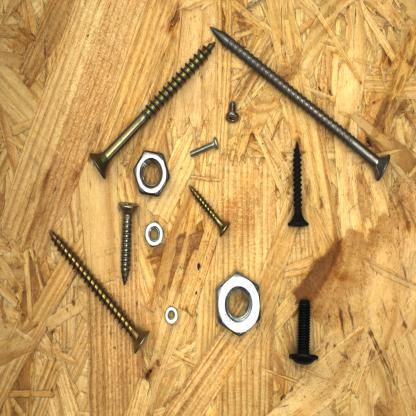screw: (208, 23, 395, 184), (87, 39, 217, 182), (46, 227, 152, 357), (282, 138, 313, 231), (186, 181, 233, 239), (286, 295, 321, 368), (115, 198, 141, 288), (187, 133, 223, 159), (222, 98, 241, 127)
